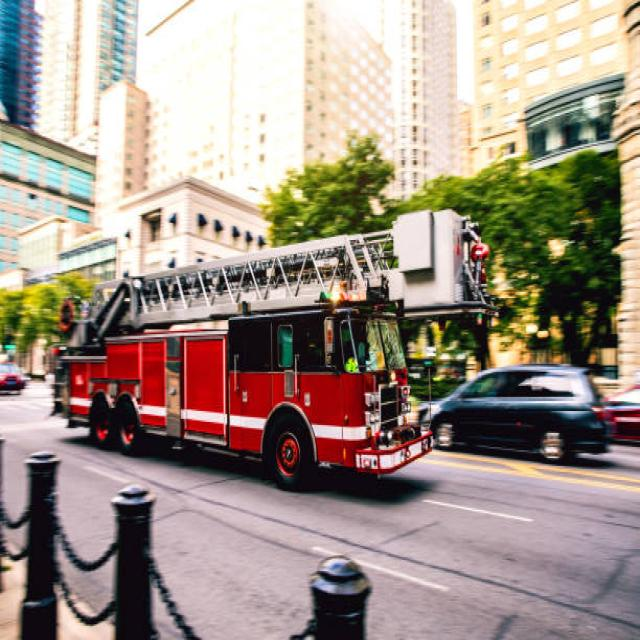emergency: (54, 210, 494, 487)
